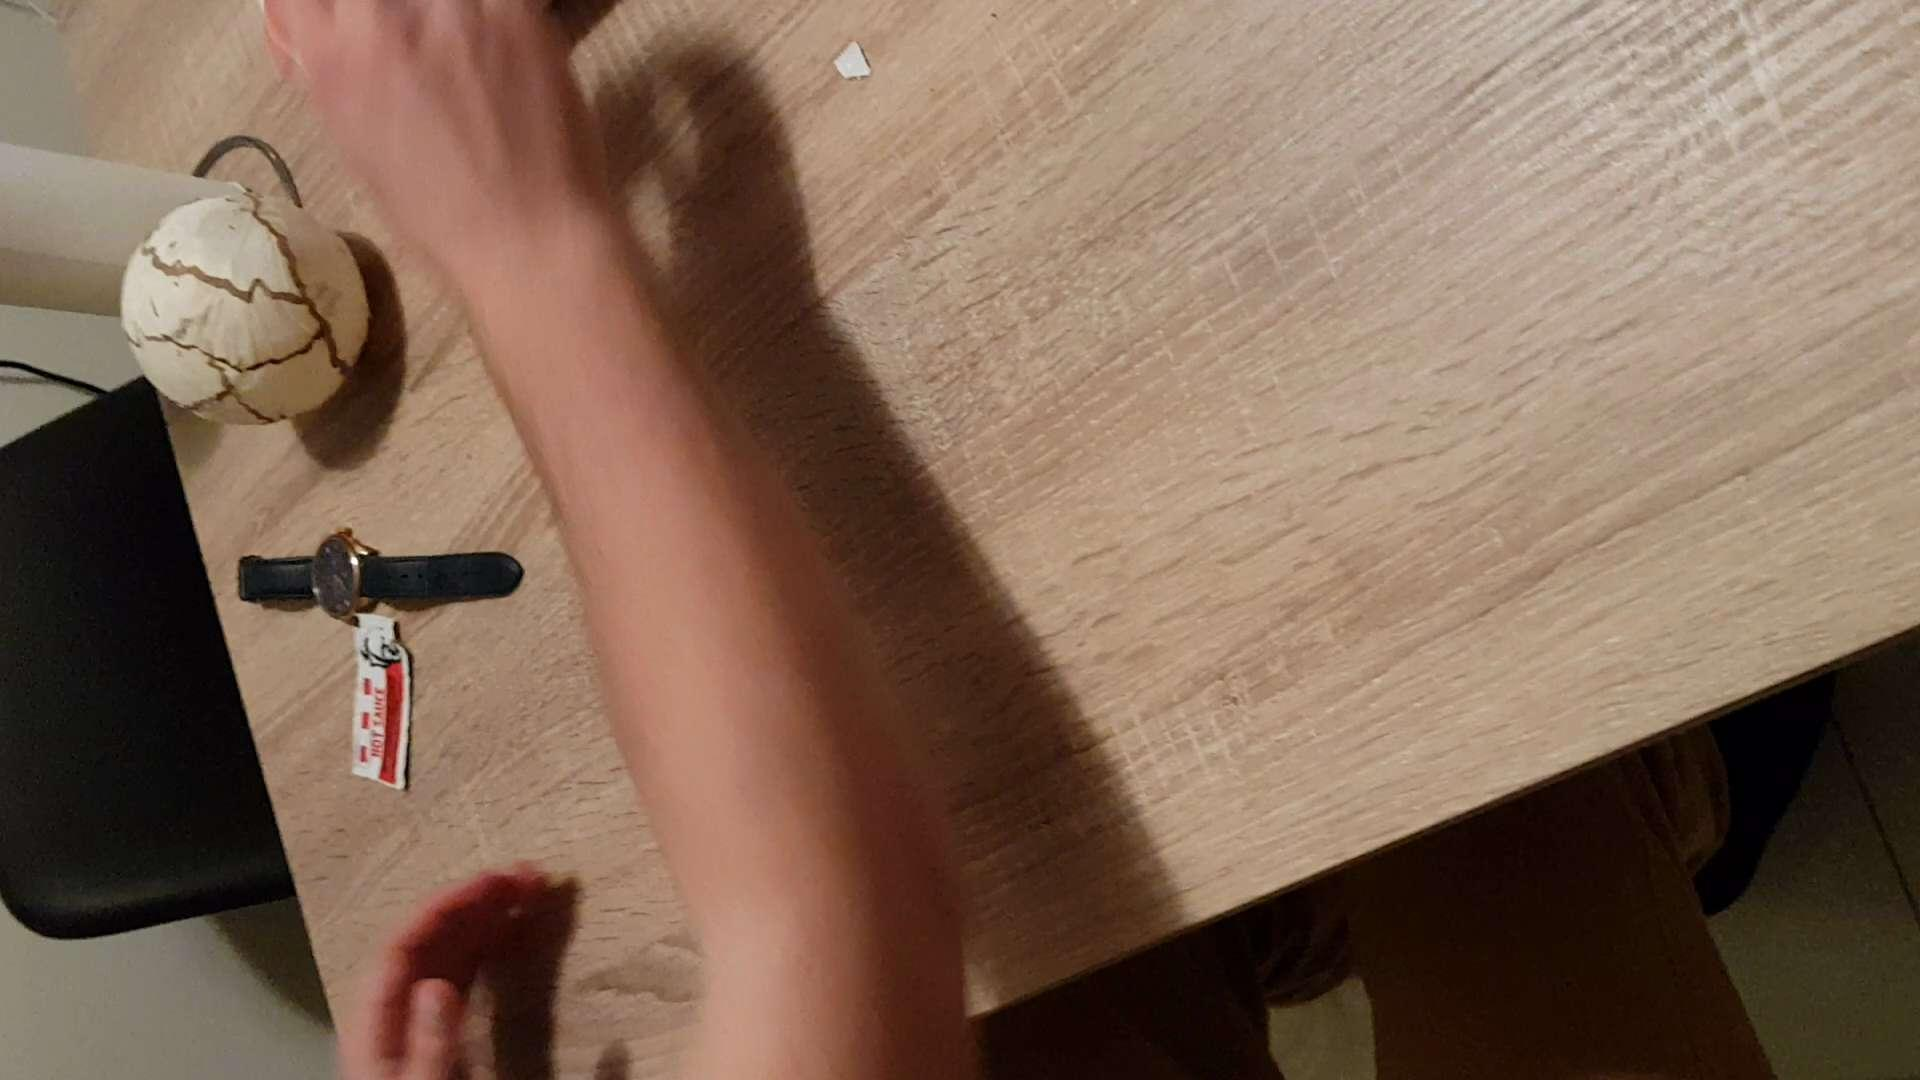sphere: (111, 185, 353, 430)
